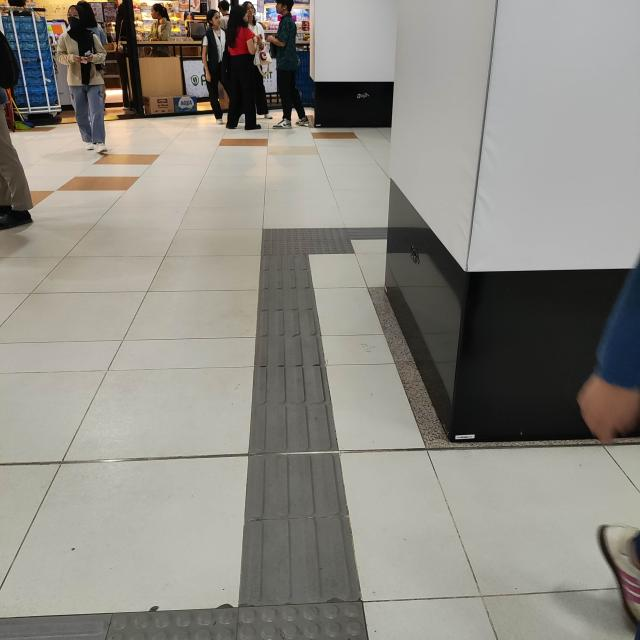kanan: (241, 225, 387, 261)
